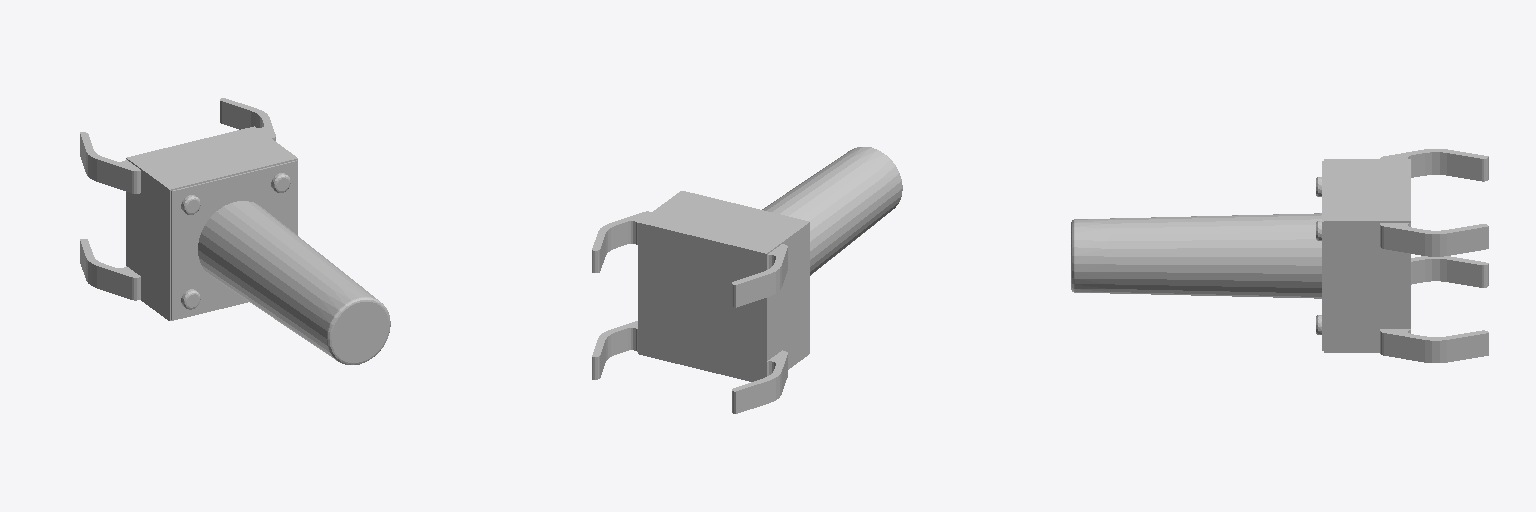
The model's file is Tactal Switch -Thru (6mmx 6mmx14.0mm).obj.
3 views of the same model, side by side, from view 1: azimuth 30°, elevation 25°; view 2: azimuth 150°, elevation 25°; view 3: azimuth 270°, elevation 25° (orthographic).
Visible parts, largest first — view 1: Solid1; view 2: Solid1; view 3: Solid1.
Boxes of the visible parts, x1,y1,x2,y2 form: Solid1: [80, 98, 390, 364]; Solid1: [592, 147, 902, 413]; Solid1: [1071, 149, 1488, 362].
Size of the model in its own units: 8.35 by 5.99 by 17.18.